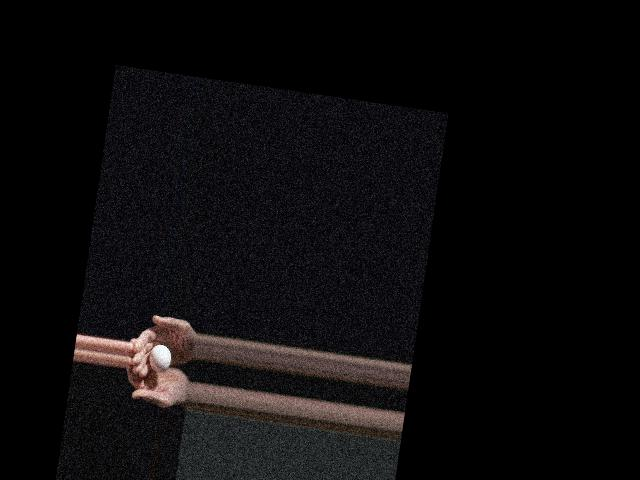egg: (147, 342, 173, 374)
